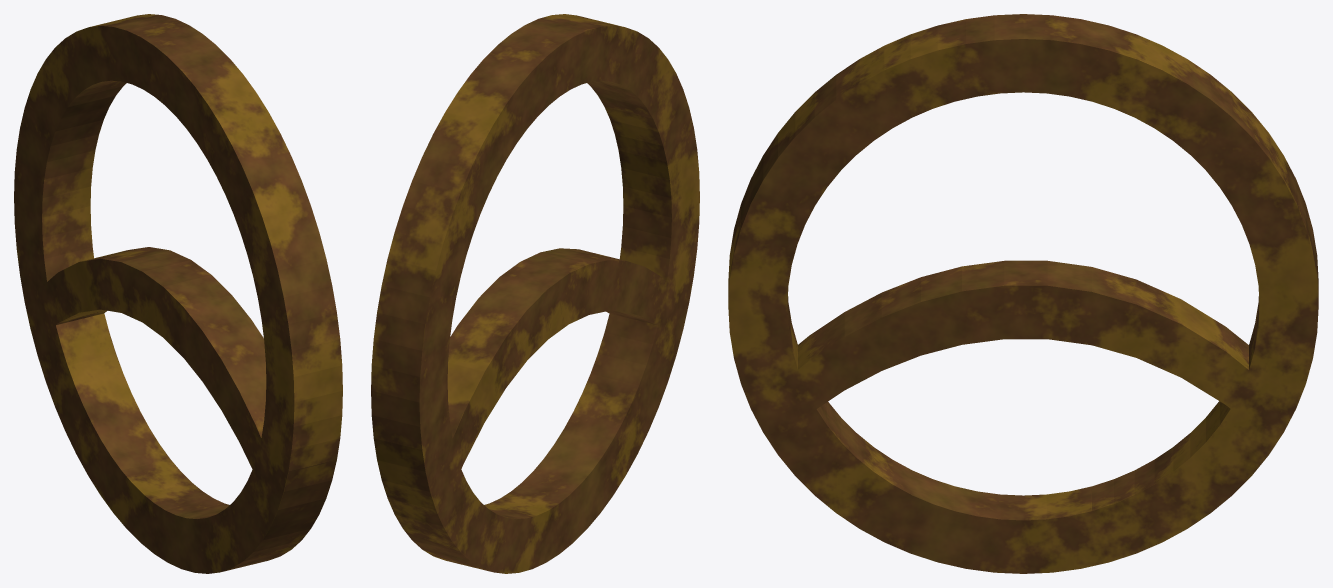
Rendered from Collectible2.fbx.
3 renders of one model, left to right at view 1: azimuth 30°, elevation 25°; view 2: azimuth 150°, elevation 25°; view 3: azimuth 270°, elevation 25°, orthographic. The views are drawn at different scales.
Parts seen in each view (by area): view 1: Circle.007; view 2: Circle.007; view 3: Circle.007.
Part boxes in pixels (box(x1,y1,x2,y2)): Circle.007: box(14, 14, 342, 573); Circle.007: box(371, 14, 699, 573); Circle.007: box(728, 14, 1318, 573).
Size of the model in its own units: 8 by 80 by 80.
1 material, 1 textured.
